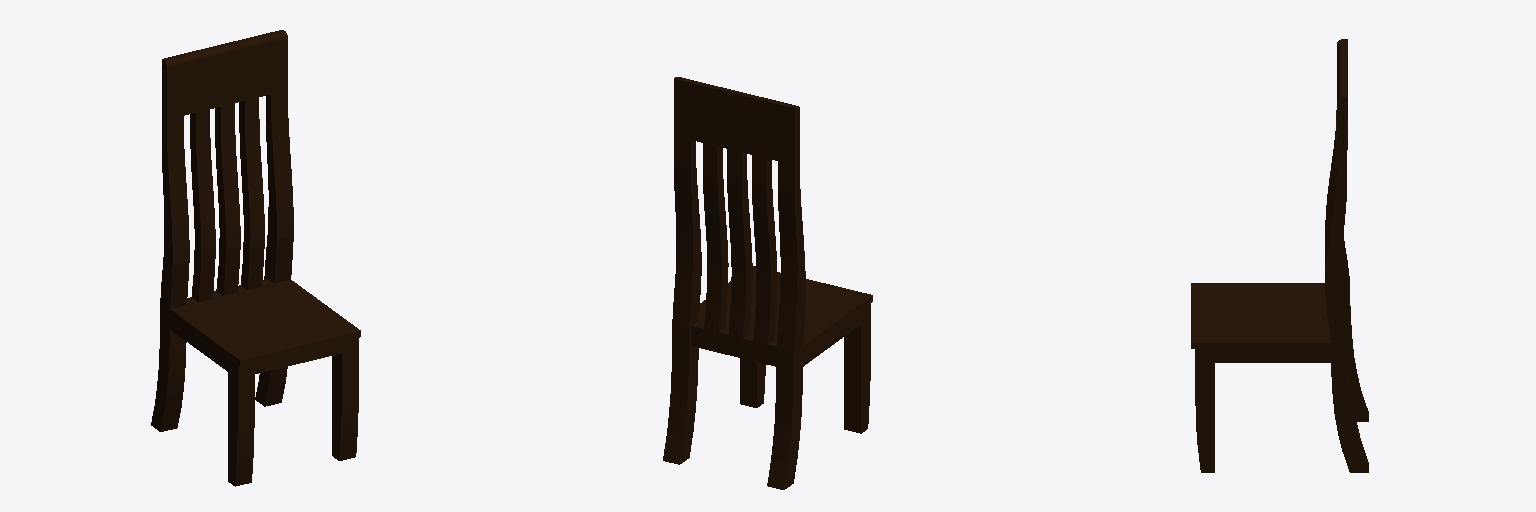
Rendered from Chair.obj.
3 renders of one model, left to right at view 1: azimuth 30°, elevation 25°; view 2: azimuth 150°, elevation 25°; view 3: azimuth 270°, elevation 25°, orthographic.
Parts seen in each view (by area): view 1: SeatShape; view 2: SeatShape; view 3: SeatShape.
Boxes of the visible parts, x1=… form: SeatShape: x1=151, y1=30, x2=360, y2=486; SeatShape: x1=663, y1=77, x2=872, y2=489; SeatShape: x1=1191, y1=39, x2=1368, y2=472.
Bounding box in the file's own units: 50 × 147 × 63.72.